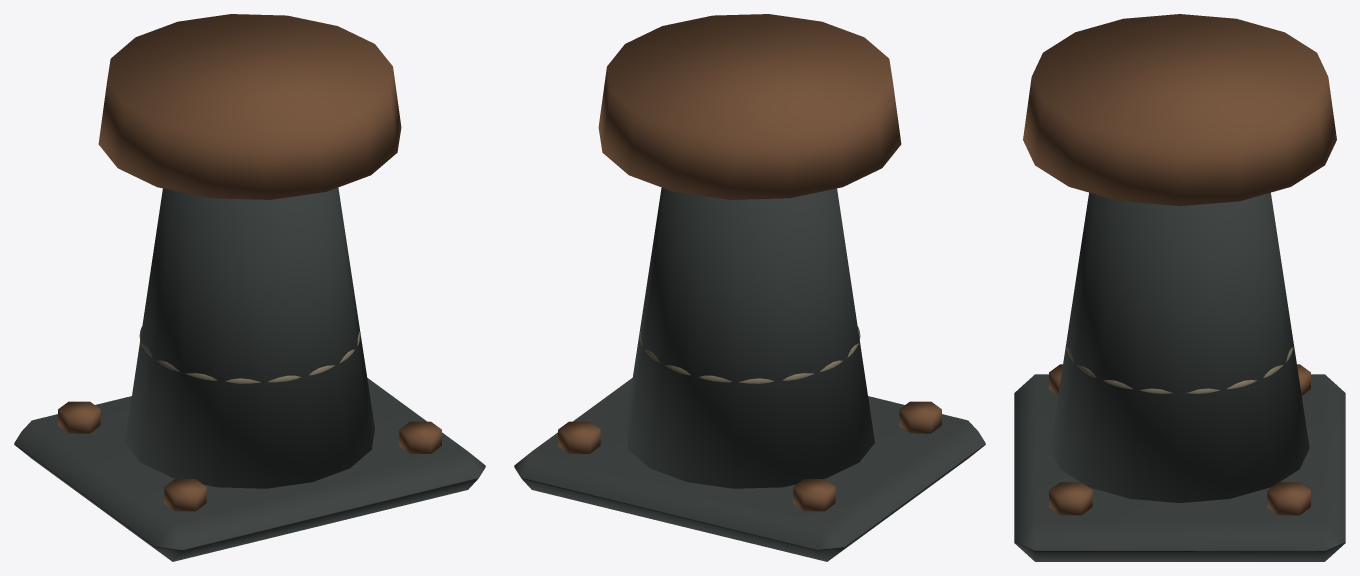
The model's file is mooring-bollard.glb.
The picture shows the model from 3 angles, left to right: view 1: azimuth 30°, elevation 25°; view 2: azimuth 150°, elevation 25°; view 3: azimuth 270°, elevation 25°; orthographic projection. The views are drawn at different scales.
Parts seen in each view (by area): view 1: Authored iron, Authored rust, Authored rope; view 2: Authored iron, Authored rust, Authored rope; view 3: Authored iron, Authored rust, Authored rope.
Part boxes in pixels (left/top/right/bottom): Authored iron: left=14, top=187, right=485, bottom=561; Authored rust: left=58, top=14, right=441, bottom=511; Authored rope: left=139, top=326, right=360, bottom=383; Authored iron: left=514, top=187, right=985, bottom=561; Authored rust: left=558, top=14, right=941, bottom=511; Authored rope: left=639, top=326, right=860, bottom=383; Authored iron: left=1014, top=192, right=1345, bottom=561; Authored rust: left=1023, top=14, right=1336, bottom=515; Authored rope: left=1066, top=347, right=1293, bottom=393.
Size of the model in its own units: 0.45 by 0.52 by 0.38.
